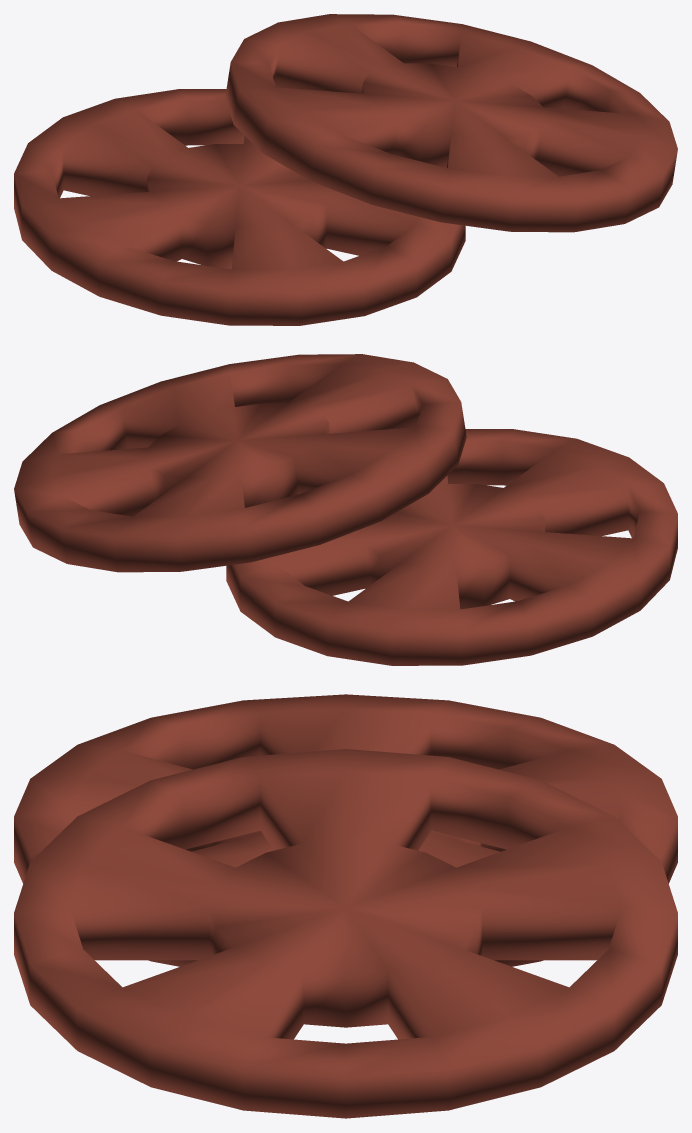
Rendered from SM_TomatoSlice2.fbx.
3 renders of one model, top to bottom at view 1: azimuth 30°, elevation 25°; view 2: azimuth 150°, elevation 25°; view 3: azimuth 270°, elevation 25°, orthographic. The views are drawn at different scales.
Visible parts, largest first — view 1: TomatoSlice2; view 2: TomatoSlice2; view 3: TomatoSlice2.
Part boxes in pixels (left/top/right/bottom): TomatoSlice2: left=14, top=14, right=677, bottom=325; TomatoSlice2: left=14, top=354, right=677, bottom=665; TomatoSlice2: left=14, top=694, right=677, bottom=1118.
Size of the model in its own units: 12.27 by 2.08 by 9.02.
